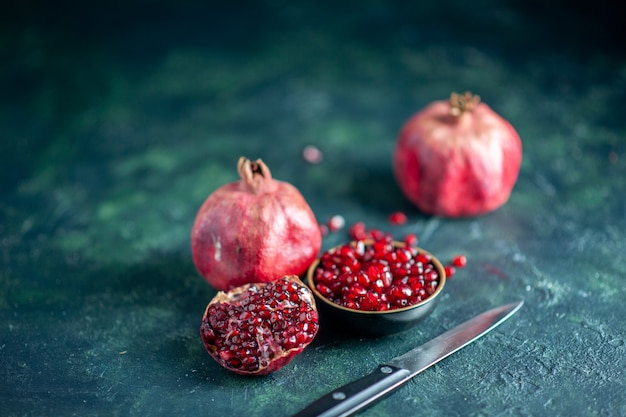knife: (291, 297, 527, 417)
